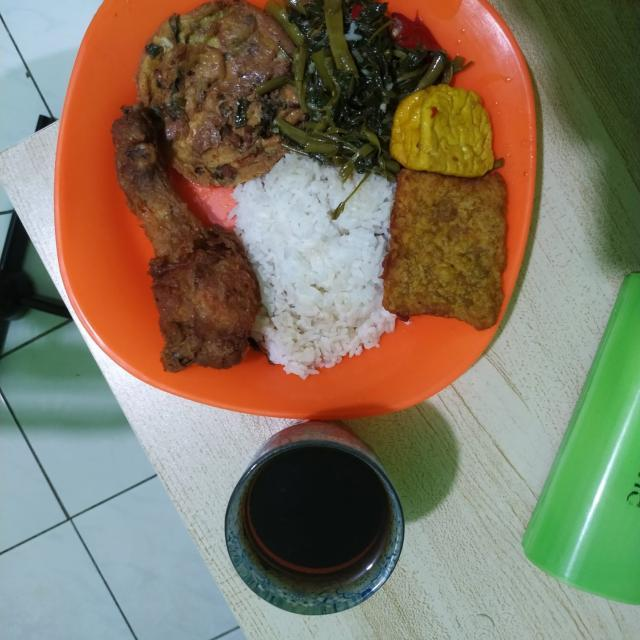ayam_goreng: (84, 117, 318, 400)
nasi_putih: (214, 162, 406, 400)
telur_ayam_dadar: (124, 11, 322, 226)
